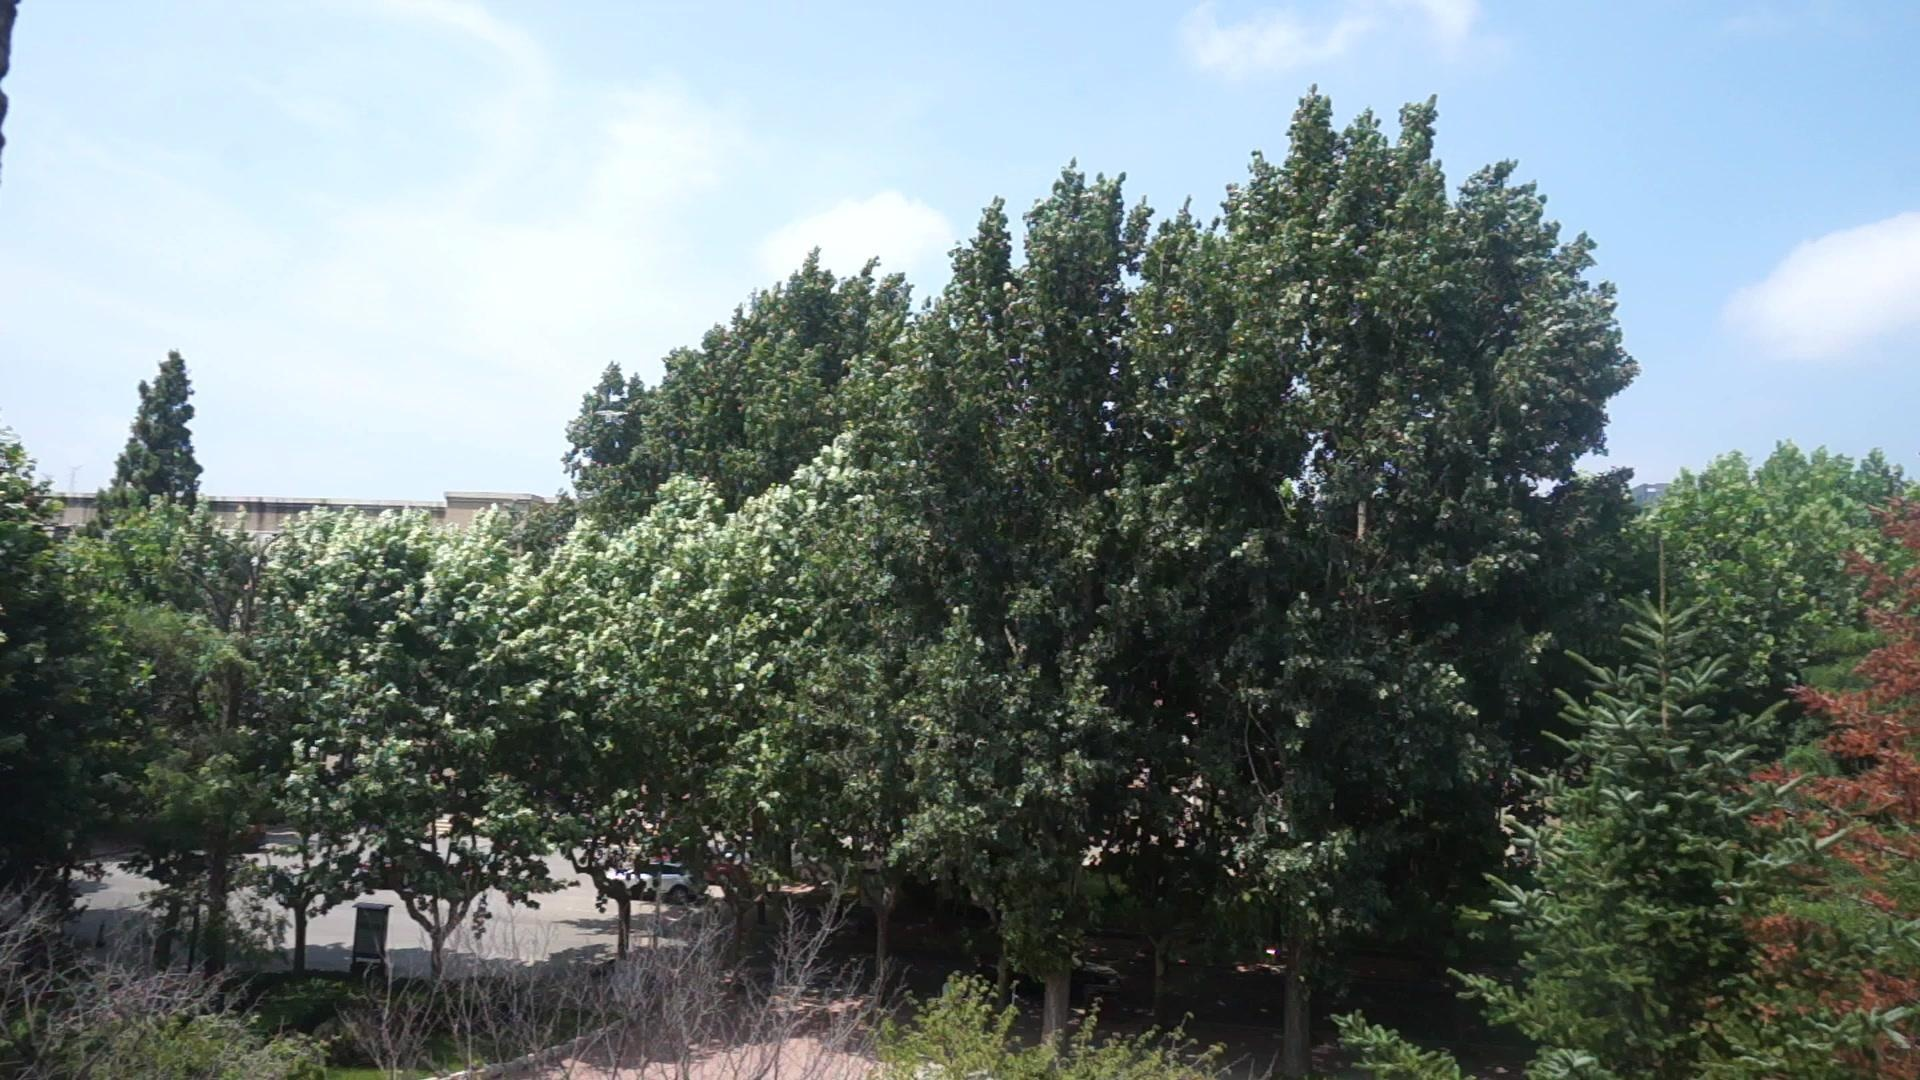UAV: (596, 411, 629, 425)
